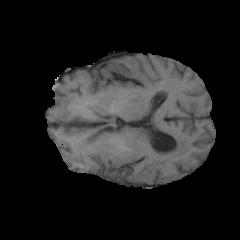glioma: (77, 128, 188, 180)
